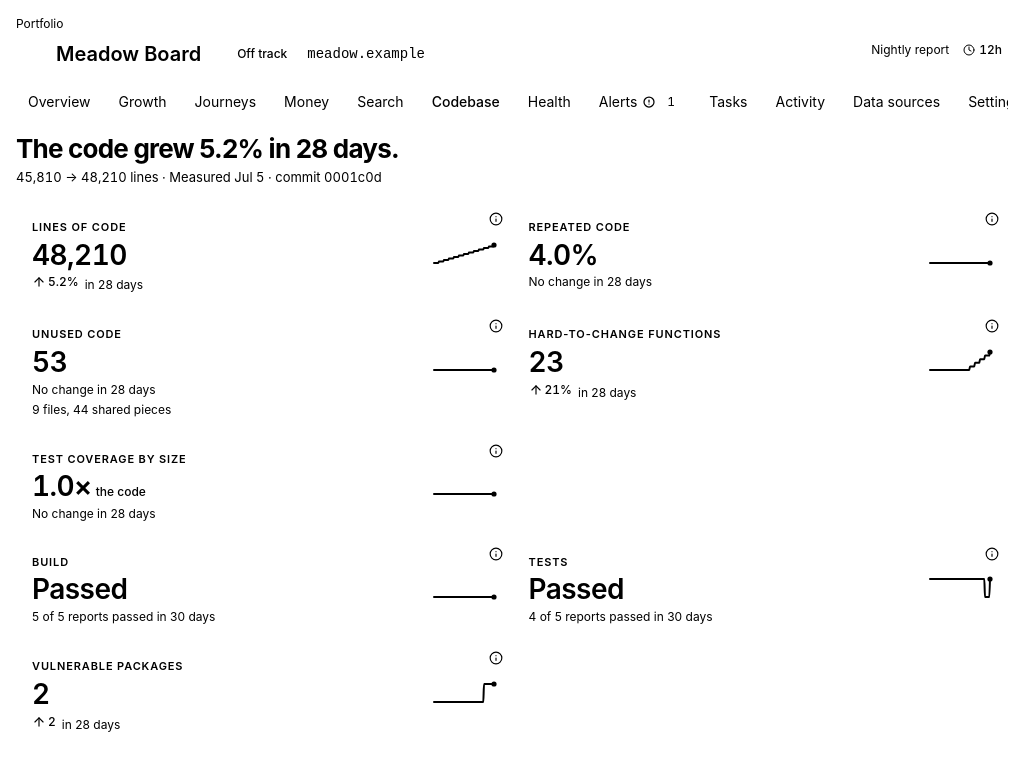
Codebase tab with reports › opens on the answer, then five figures with their change and meaning
Check: the element that starts with "The code grew 5.2% in 28 days." is shown, box 16,133 -> 399,185
Check: the heading "The code grew 5.2% in 28 days." is shown, box 16,135 -> 399,164
Click the button named "About Repeated code" at (992, 219), box 980,207 -> 1004,231
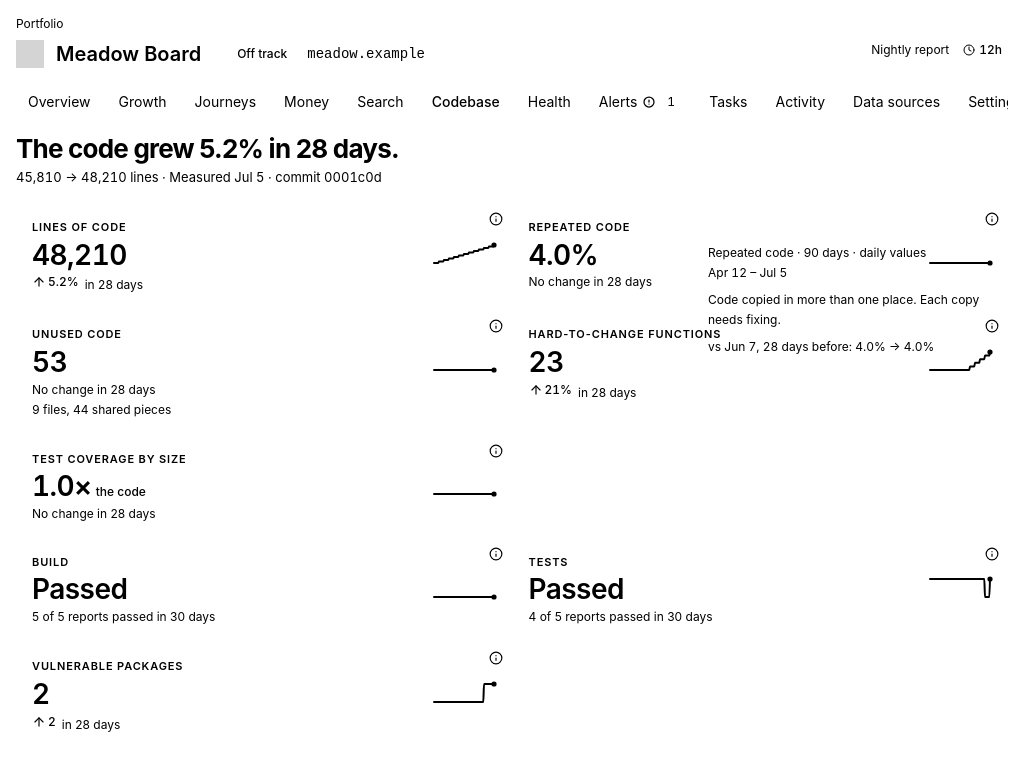
Check: the text "Code copied in more than one place. Each copy needs fixing." is shown, box 708,290 -> 1004,329
